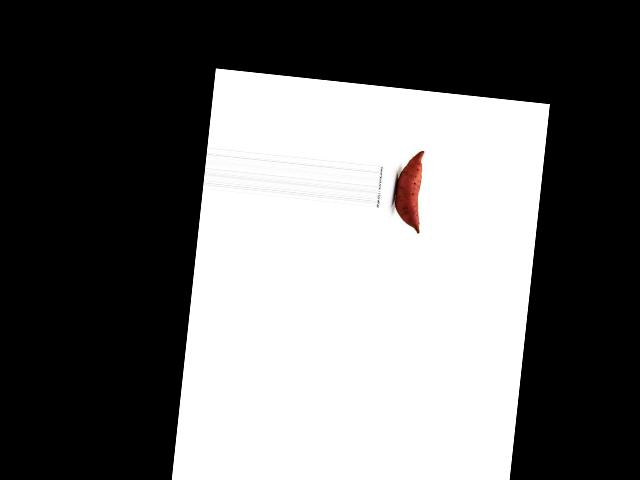sweet_potato: (390, 147, 432, 234)
